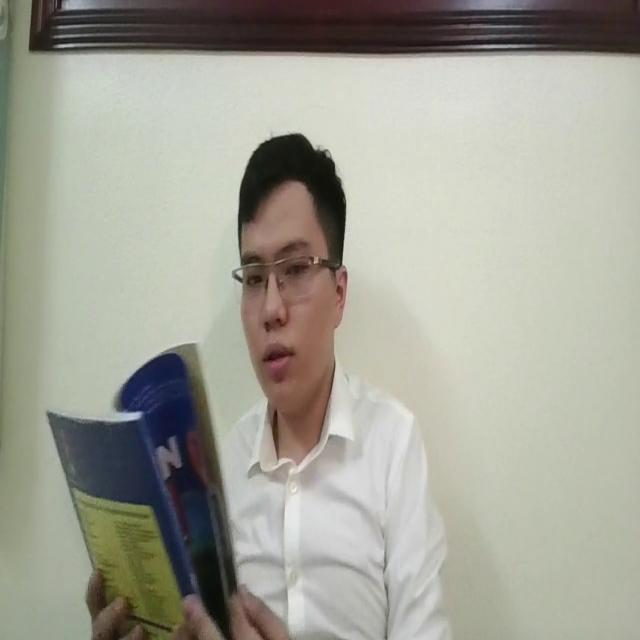book: (43, 332, 250, 640)
student: (216, 128, 451, 640)
